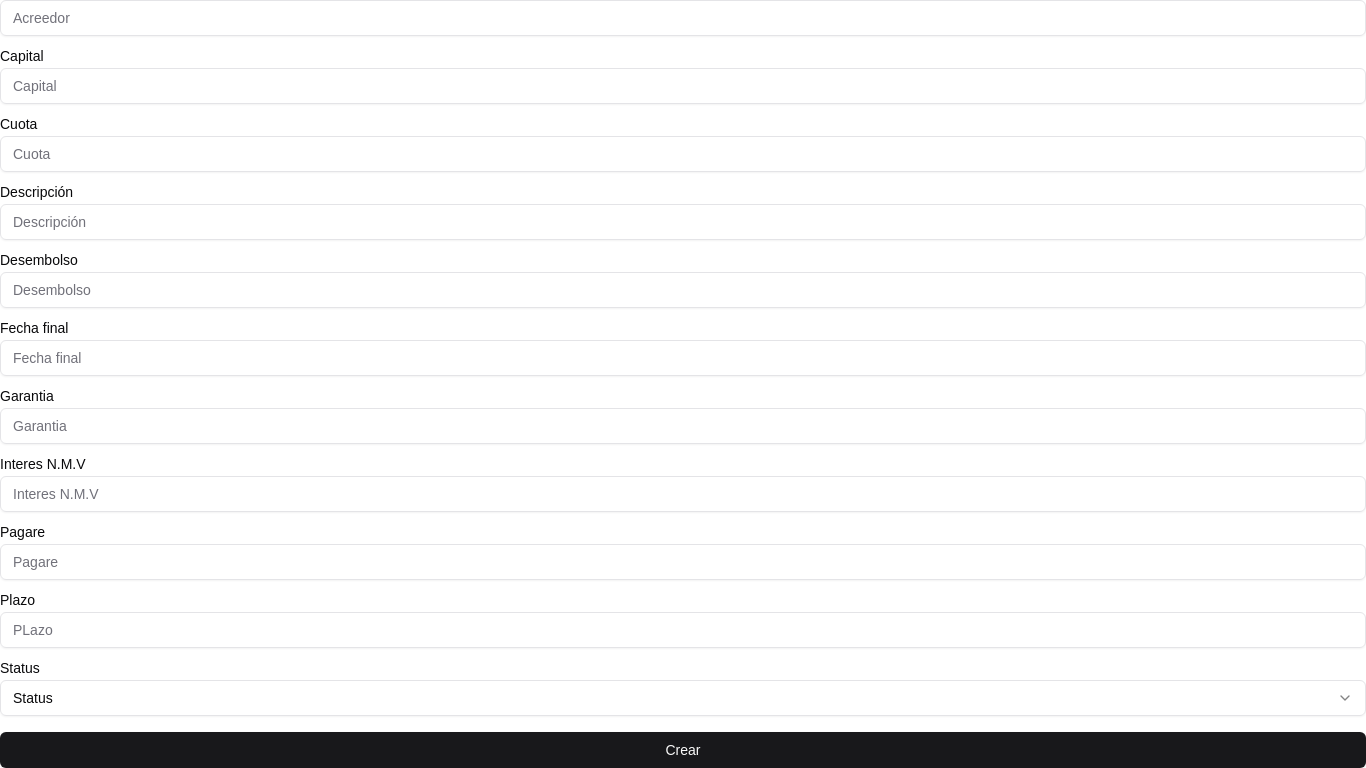
Test: CreateTransactionForm › blocks submit and shows an error when a required field is empty
(page scrolled)
Click the button "Crear". click: (683, 750)
box: x1=0 y1=732 x2=1365 y2=767
(page scrolled)
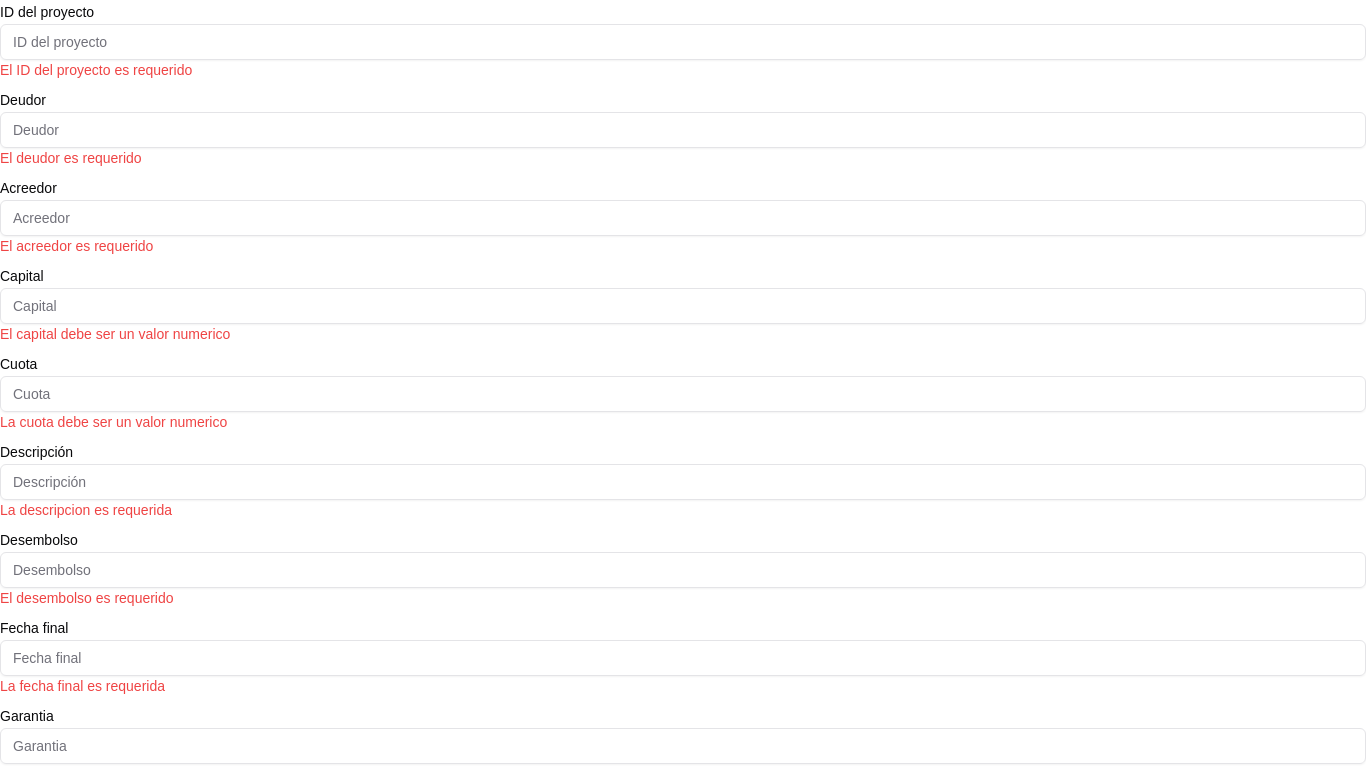
Expected: the text "El ID del proyecto es requerido" is shown, x1=0 y1=62 x2=192 y2=78
